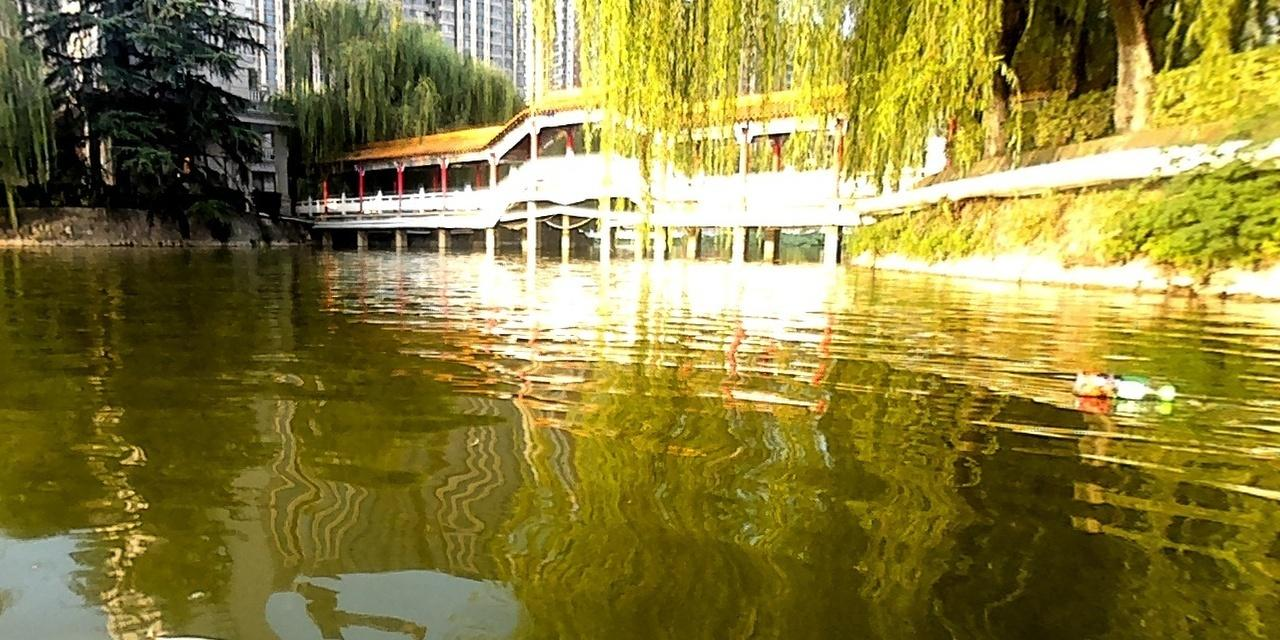bottle: (1068, 366, 1177, 404)
